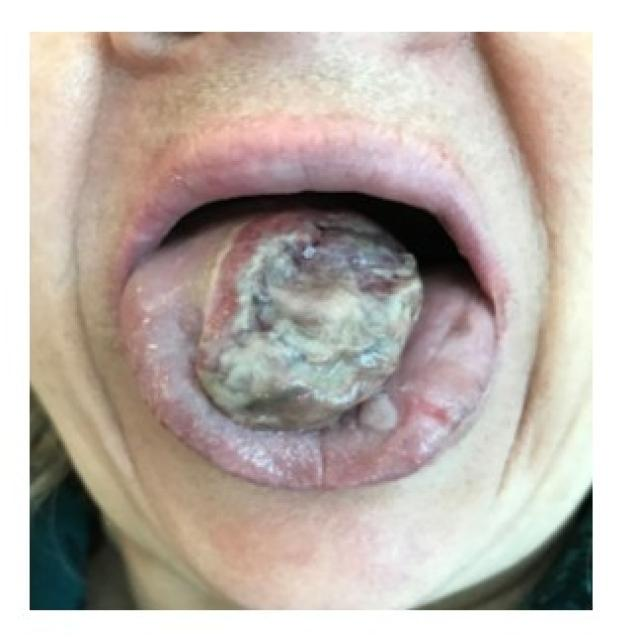Cancer: (212, 210, 458, 451)
